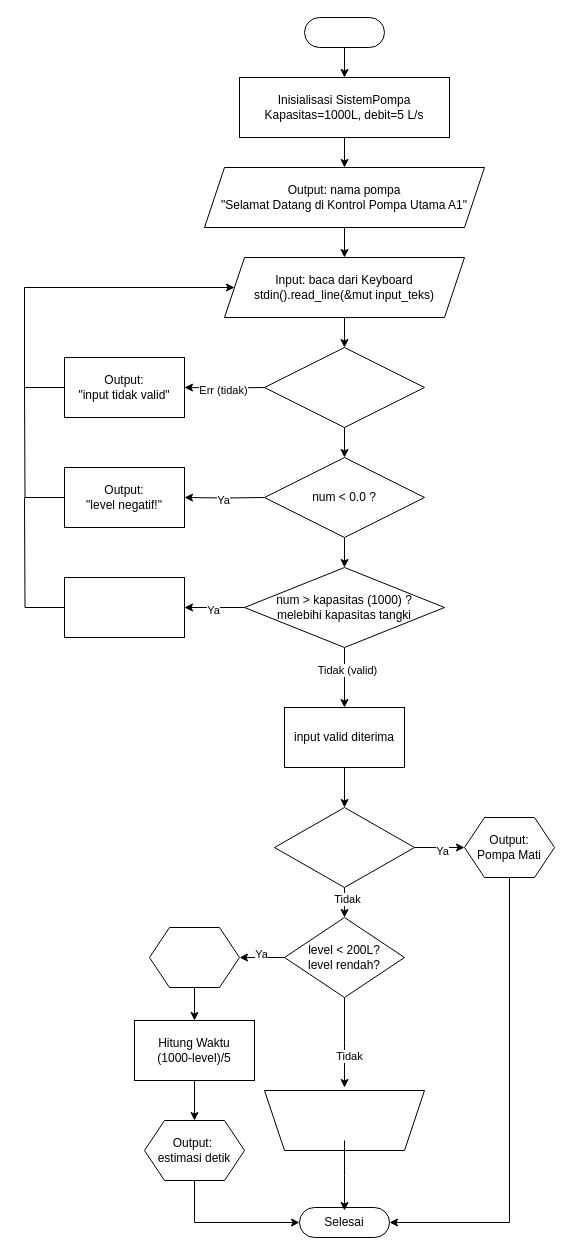
This 572x1255 diagram has some shape labels left out. Each missing label, with the centre of its shape:
Level >=1000L? tangki penuh?: point (344, 847)
Mulai: point (344, 32)
Output: "melebihi kapasitas": point (124, 607)
Output: Pompa Nyala: point (194, 957)
Output: Pompa STANDBY Level aman (200-999L): point (344, 1120)
Parse ke f64 berhasil?: point (344, 387)
